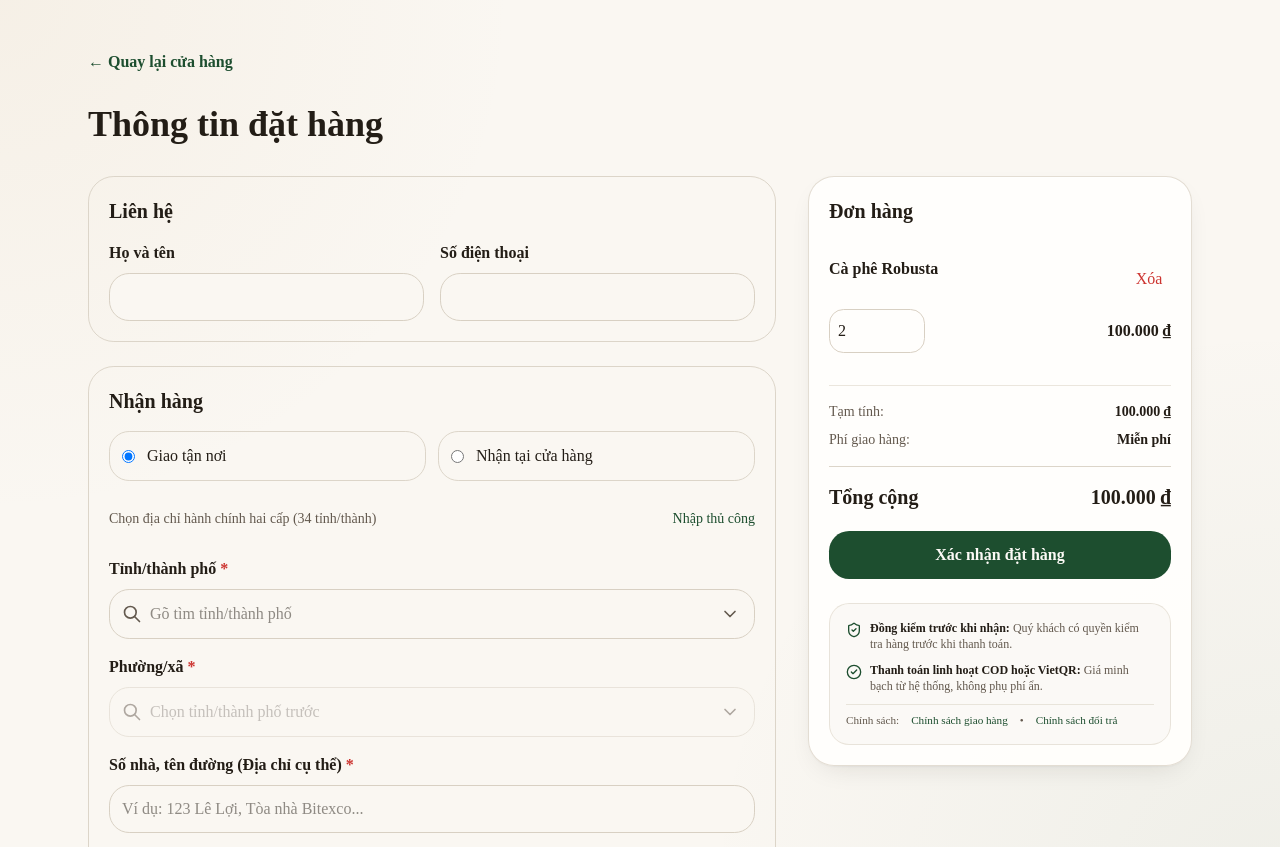
Test: CheckoutForm - Structured Address & Experience › chế độ fallback nhập tay cho phép gõ địa chỉ trực tiếp mà không khóa checkout
The width and height of the screenshot is (1280, 847).
Click the button "Nhập thủ công". click: (714, 519)
box: x1=673 y1=497 x2=755 y2=541
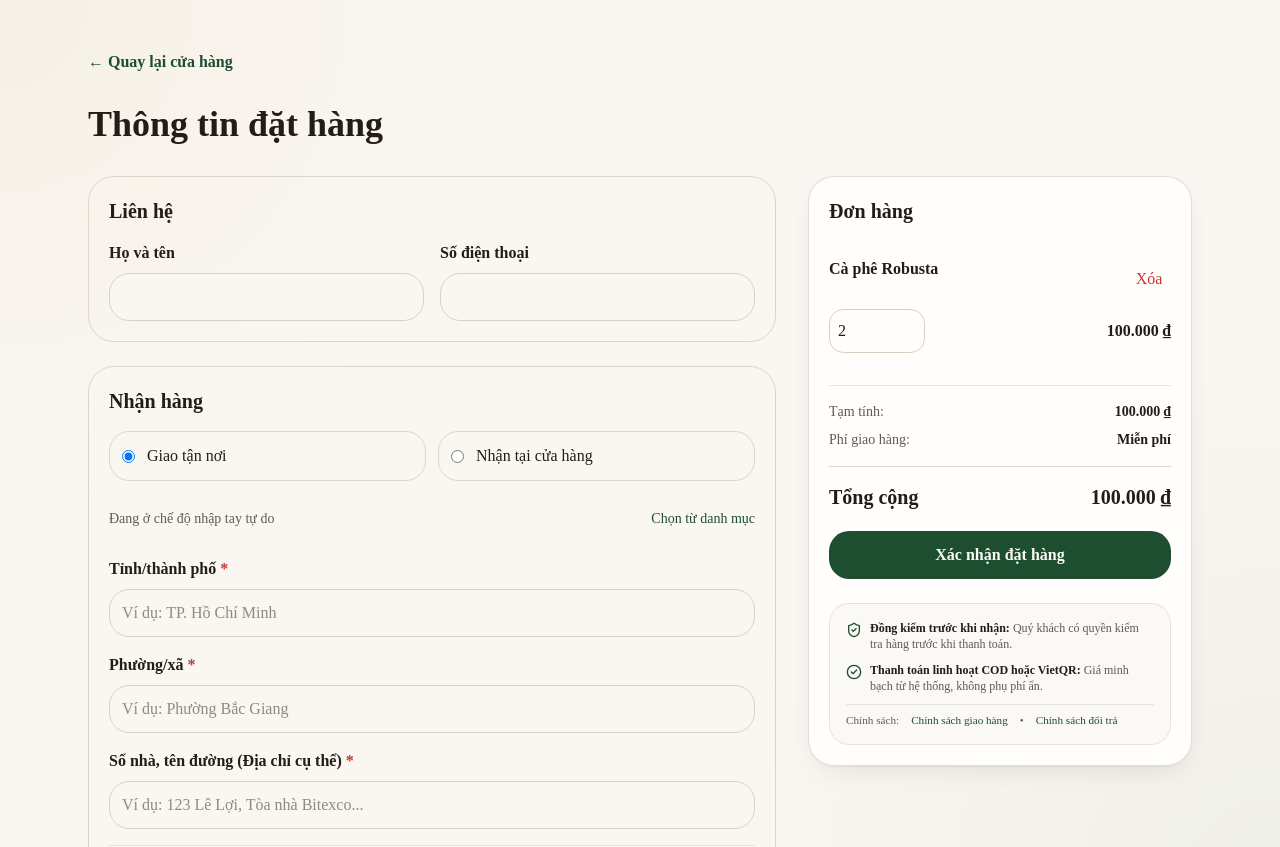
Type "Tỉnh Mới" into the field labelled "Tỉnh/thành phố *". click: (432, 613)
box: x1=109 y1=589 x2=755 y2=637
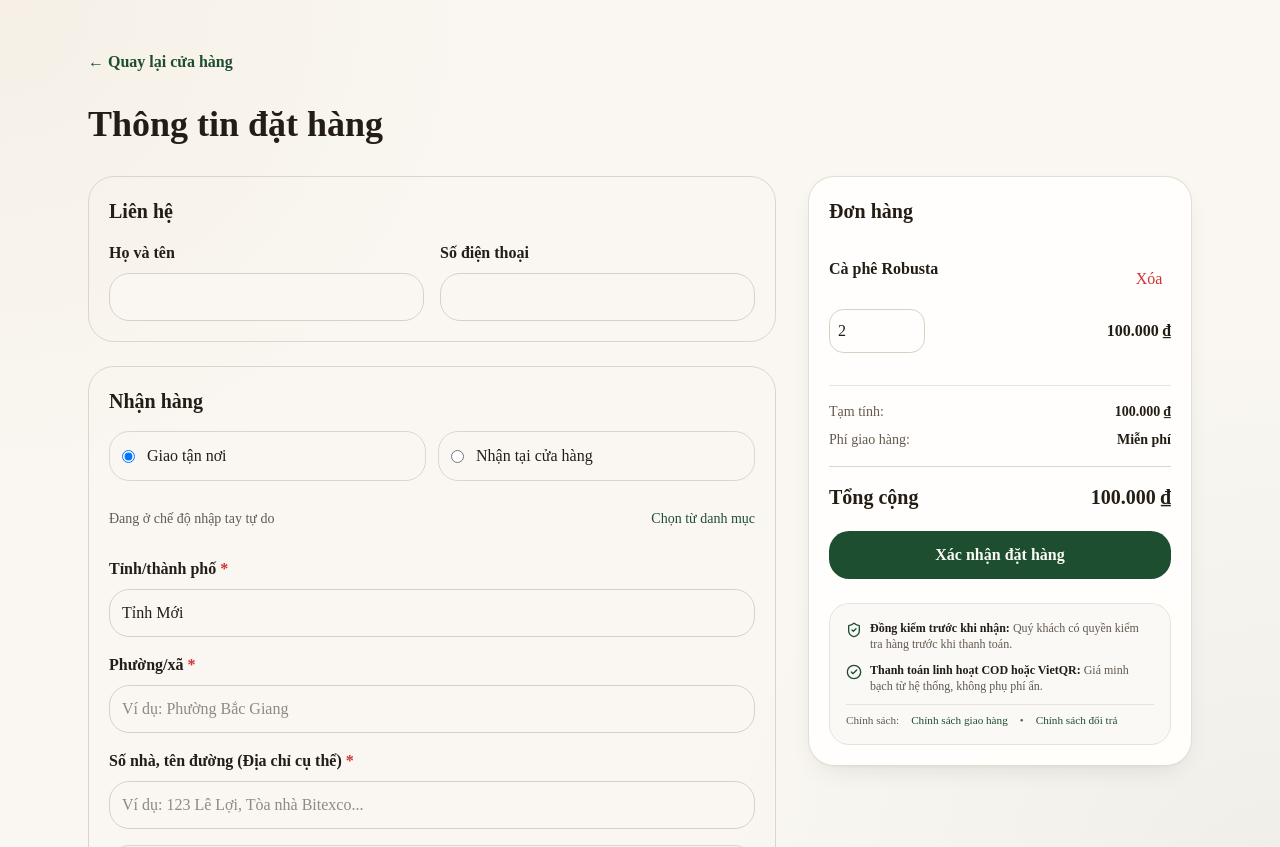
Type "Thôn 1" into the field labelled "Số nhà, tên đường (Địa chỉ cụ thể) *". click: (432, 805)
box: x1=109 y1=781 x2=755 y2=829
(page scrolled)
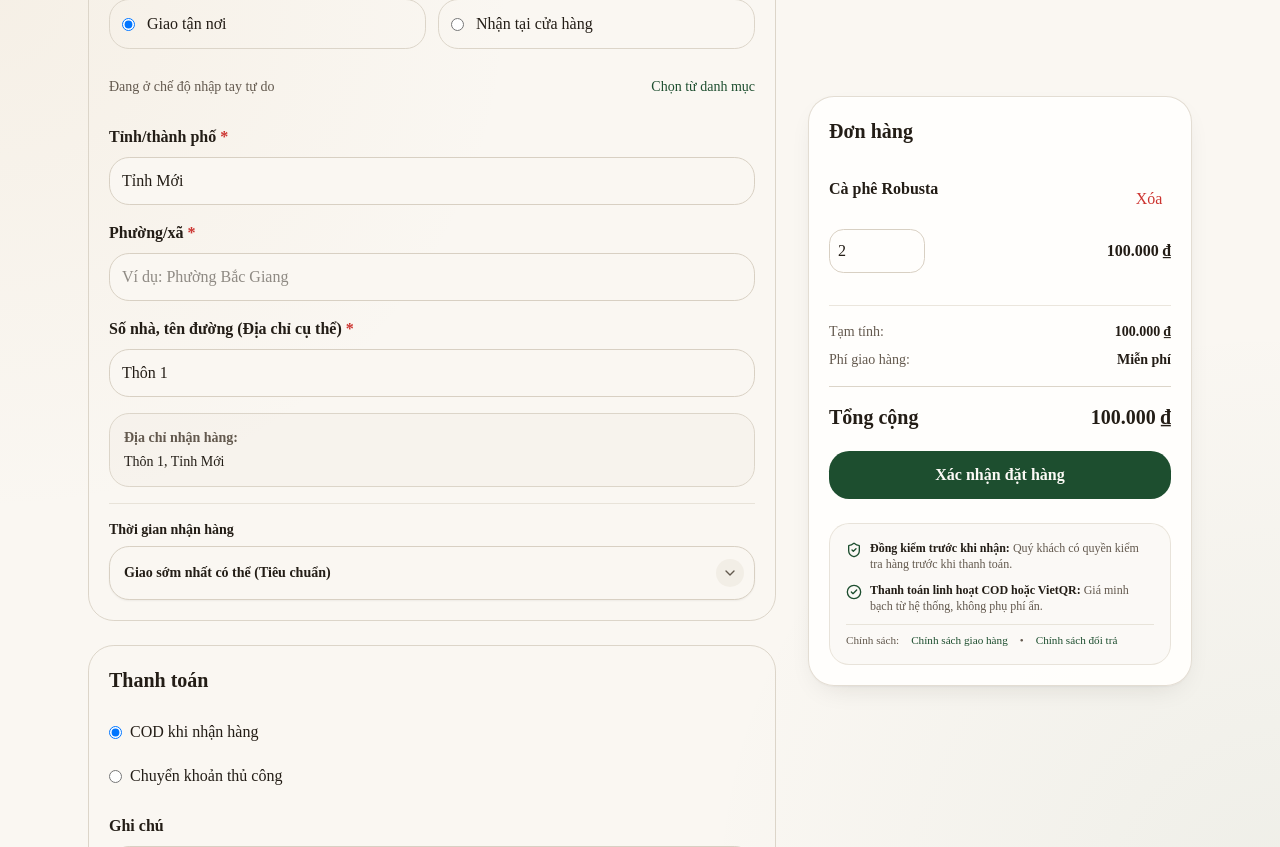
Expected: the element with test id "address-summary" shows "Tỉnh Mới", x1=124 y1=454 x2=224 y2=469
Expected: the element with test id "address-summary" shows "Thôn 1", x1=124 y1=454 x2=224 y2=469
